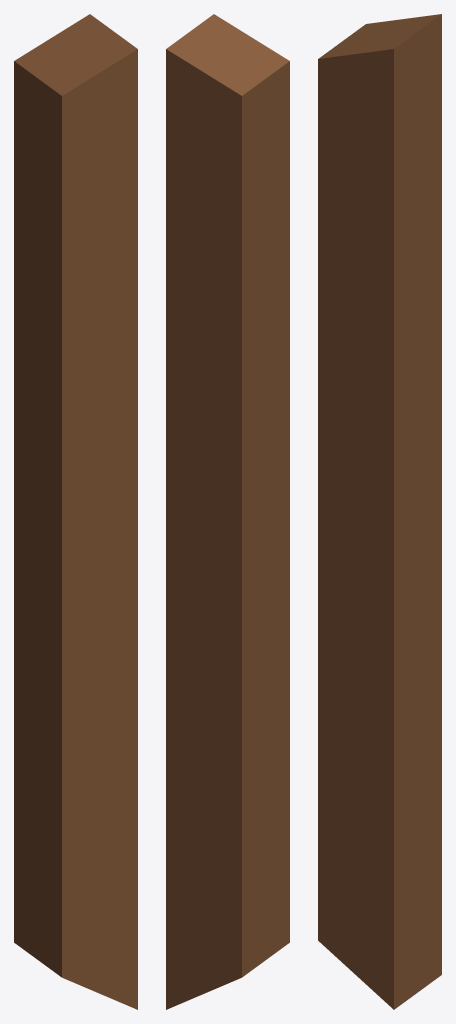
Rendered from matraca-esquerda.fbx.
3 views of the same model, side by side, from view 1: azimuth 30°, elevation 25°; view 2: azimuth 150°, elevation 25°; view 3: azimuth 330°, elevation 25° (orthographic).
Parts seen in each view (by area): view 1: matraca-esquerda; view 2: matraca-esquerda; view 3: matraca-esquerda.
Boxes of the visible parts, bbox=[...] form: matraca-esquerda: bbox=[14, 14, 137, 1009]; matraca-esquerda: bbox=[166, 14, 289, 1009]; matraca-esquerda: bbox=[318, 14, 441, 1009].
Bounding box in the file's own units: 6.12 × 74.1 × 6.69.
